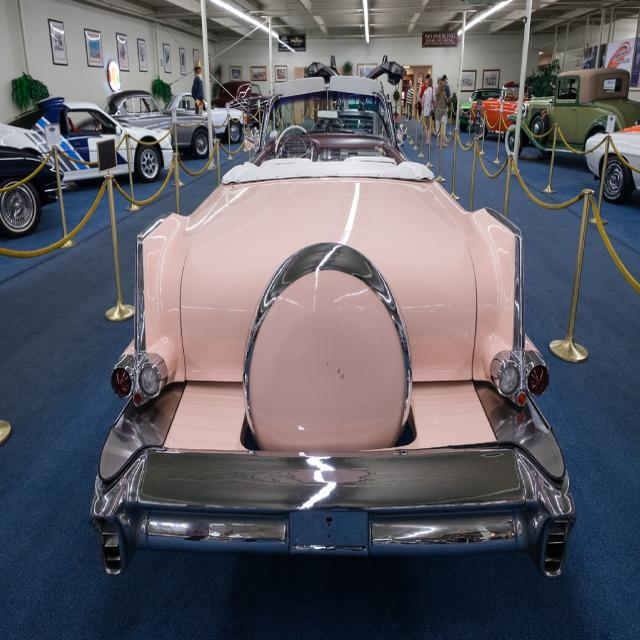car: (109, 81, 570, 580)
